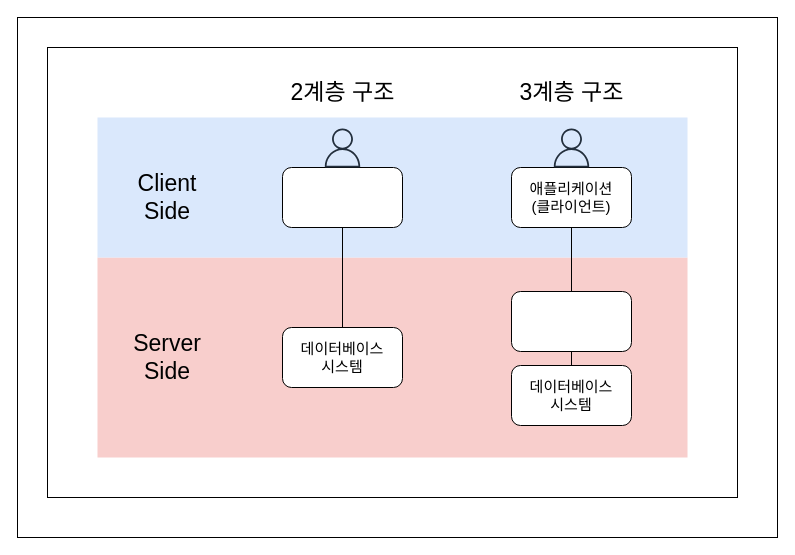
The diagram is 795 pixels wide and 555 high, and some of its shapes have lost their labels. The centre of each missing label's shape, as x and y in pixels:
"애플리케이션" goes at (x=342, y=197).
"애플리케이션 서버" goes at (x=571, y=321).
